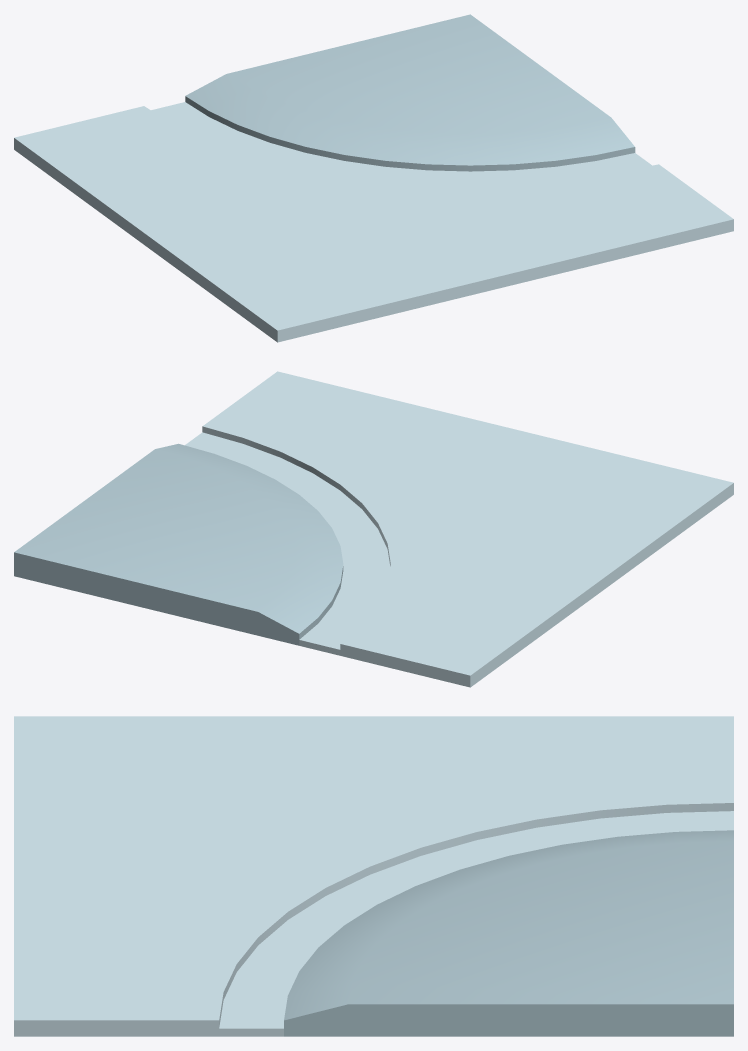
3 views of the same model, one above another, from view 1: azimuth 30°, elevation 25°; view 2: azimuth 150°, elevation 25°; view 3: azimuth 270°, elevation 25° (orthographic). The views are drawn at different scales.
Visible parts, largest first — view 1: roadCorner; view 2: roadCorner; view 3: roadCorner.
Boxes of the visible parts, left/top/right/bottom form: roadCorner: left=14, top=14, right=733, bottom=342; roadCorner: left=14, top=371, right=733, bottom=687; roadCorner: left=14, top=716, right=733, bottom=1036.
Bounding box in the file's own units: 1 × 0.05 × 1.
